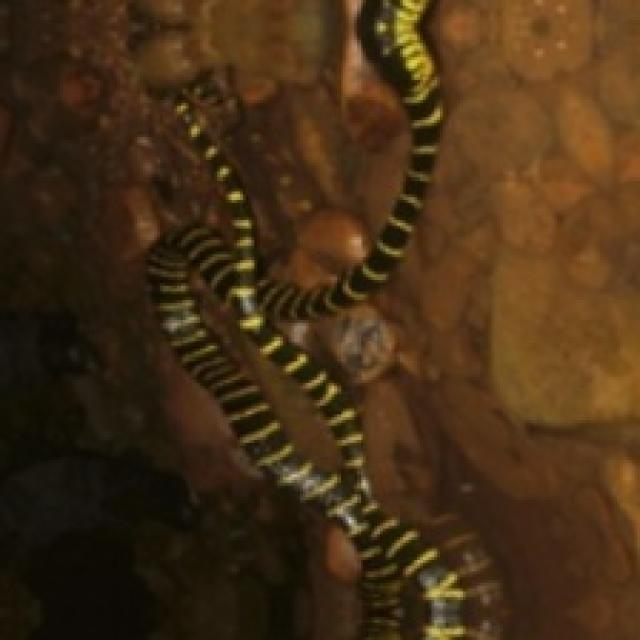mangrove cat snake: (146, 0, 500, 637)
